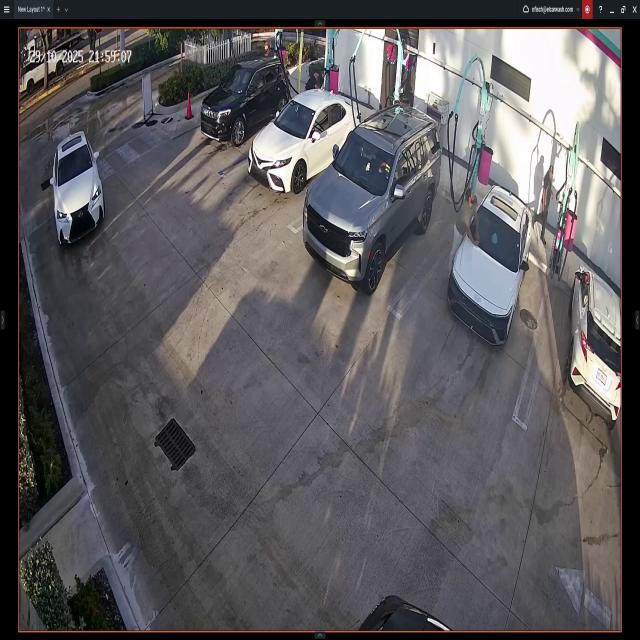Car: (304, 102, 440, 296), (453, 182, 529, 350), (246, 90, 361, 190), (202, 55, 288, 144), (574, 264, 620, 424), (52, 135, 104, 246)
